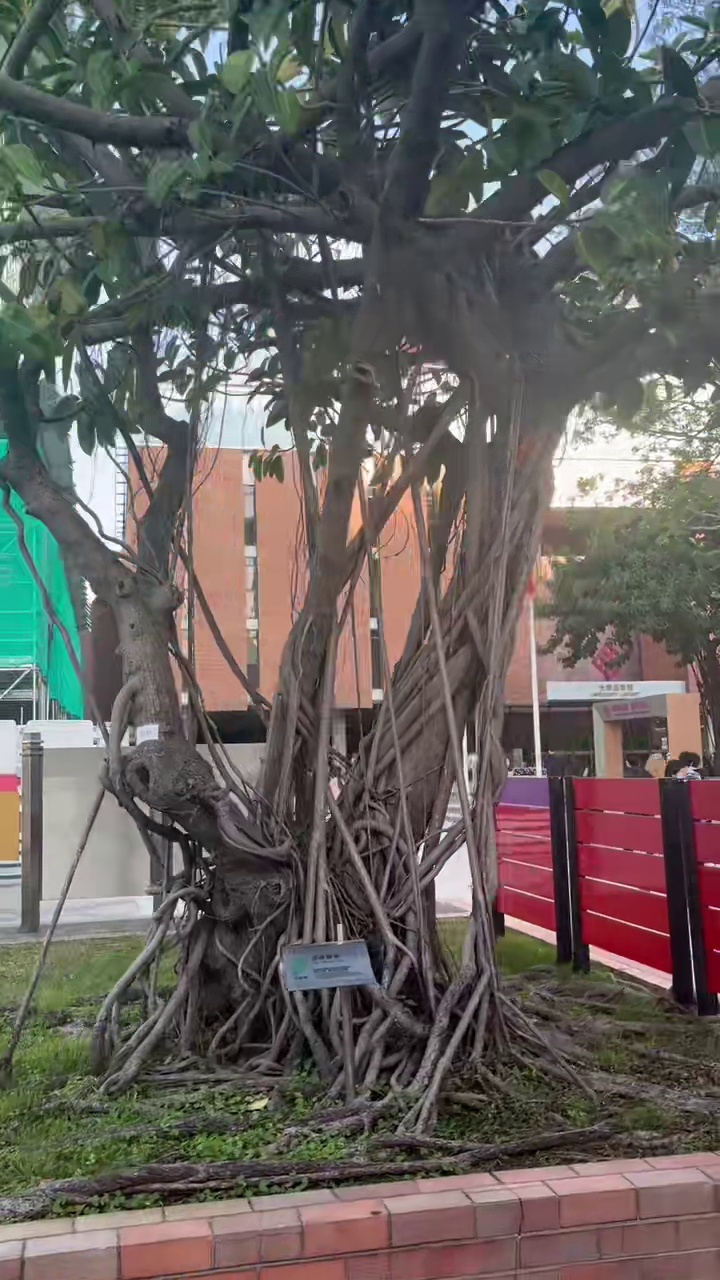Ficus elastica: (0, 0, 719, 1137)
